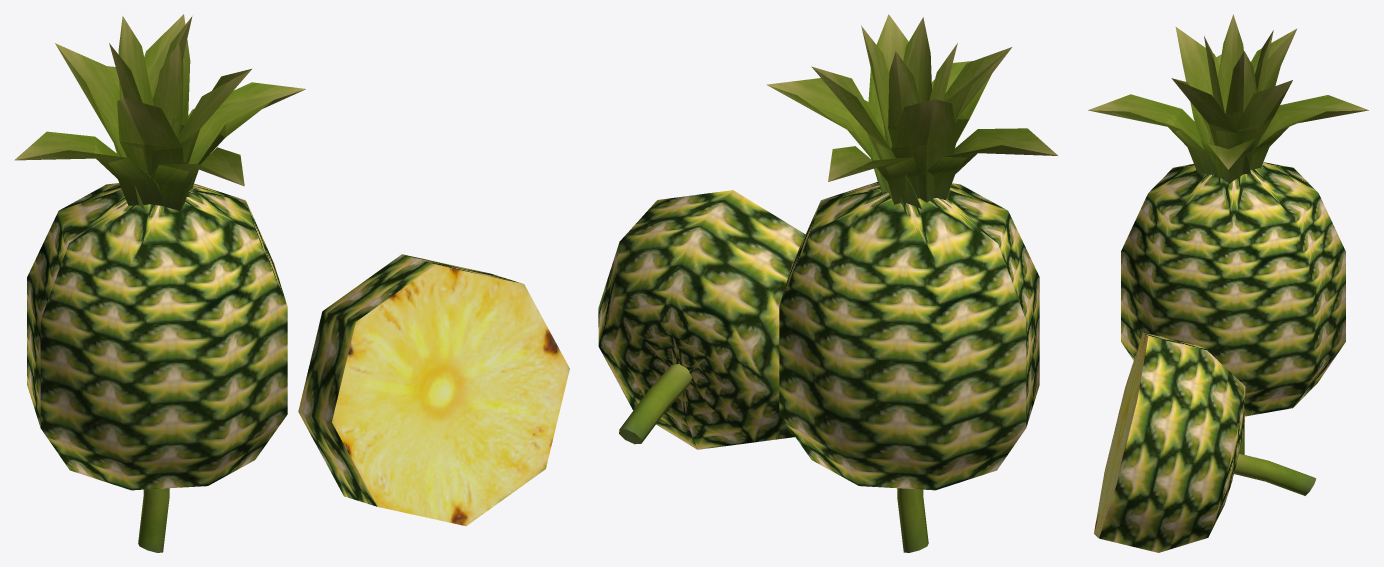
Rendered from pineapple_b.FBX.
3 views of the same model, side by side, from view 1: azimuth 30°, elevation 25°; view 2: azimuth 150°, elevation 25°; view 3: azimuth 270°, elevation 25° (orthographic). The views are drawn at different scales.
Parts seen in each view (by area): view 1: Mesh Object (×2); view 2: Mesh Object (×2); view 3: Mesh Object (×2).
Part boxes in pixels (x1=…): Mesh Object (×2): x1=14, y1=14, x2=569, y2=552; Mesh Object (×2): x1=598, y1=14, x2=1058, y2=552; Mesh Object (×2): x1=1088, y1=14, x2=1368, y2=552.
Bounding box in the file's own units: 10.99 × 11.11 × 6.55.
